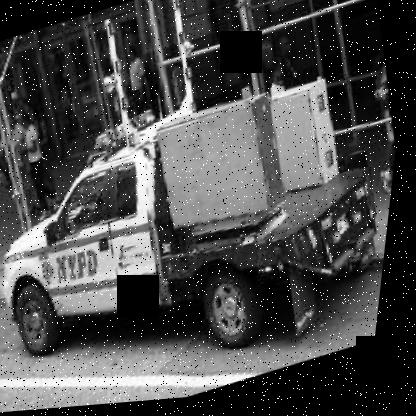emergency: (0, 16, 411, 415)
